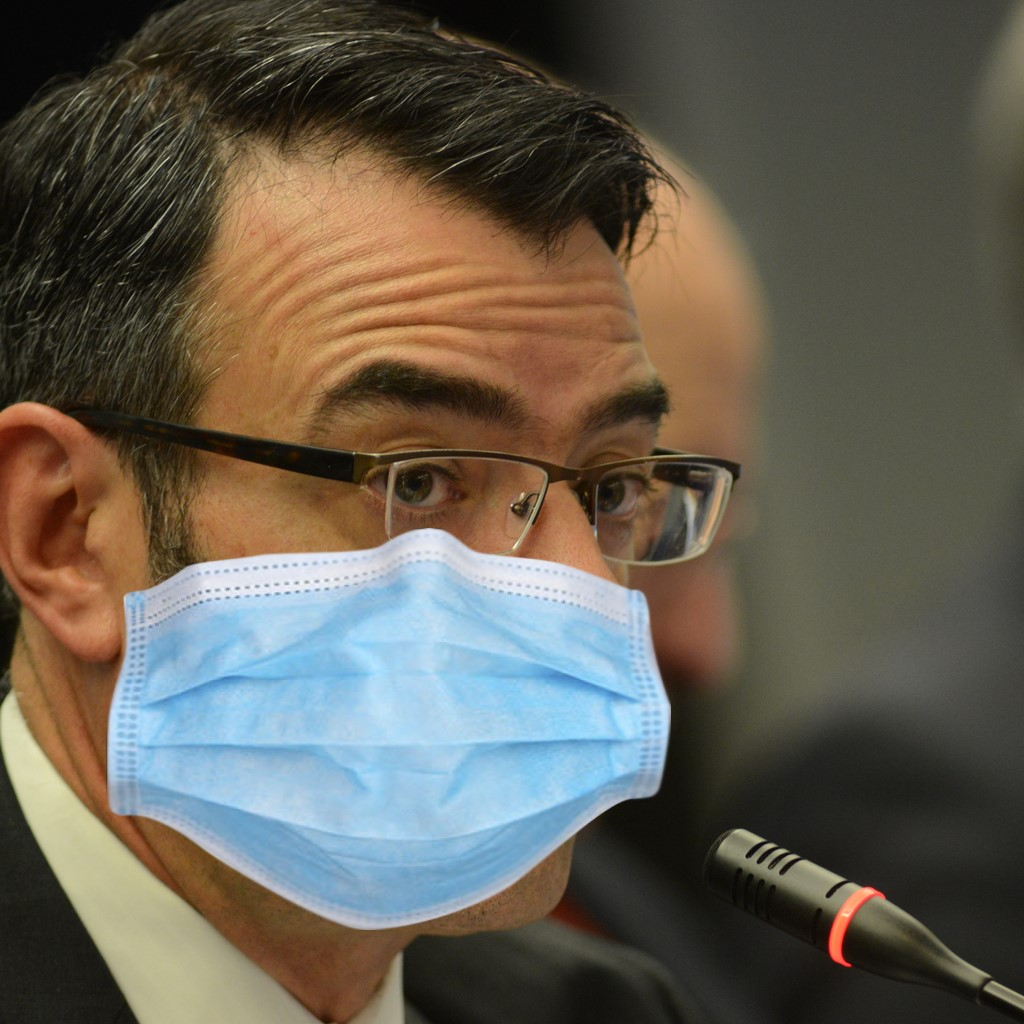con_mascara: (115, 112, 691, 945)
